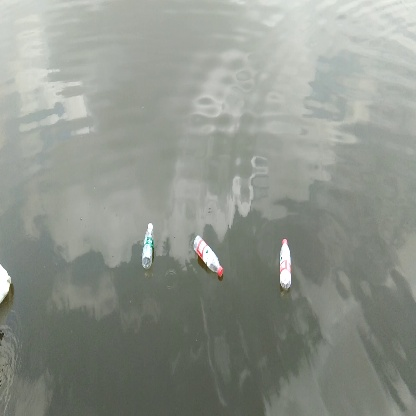bottle: (190, 227, 225, 280), (272, 234, 297, 291), (140, 219, 160, 272)
